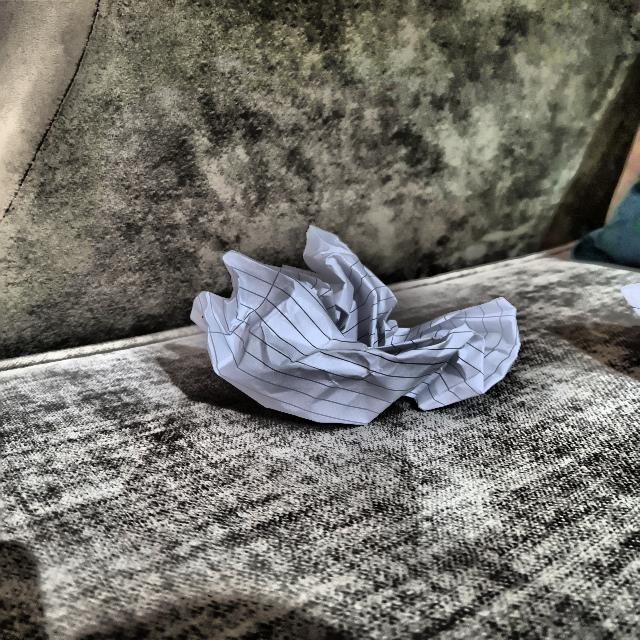Paper: (197, 237, 530, 418)
